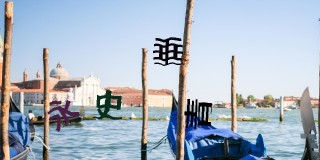史: (96, 88, 120, 120)
垂: (152, 33, 184, 67)
永: (48, 98, 79, 131)
青: (185, 97, 213, 129)
